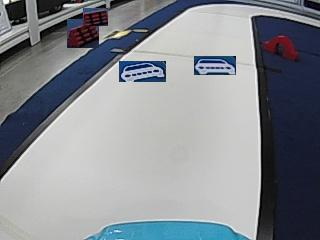bridge: (263, 35, 298, 59)
